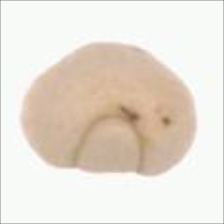L5: (70, 112, 148, 176), (79, 38, 150, 59)
L6: (17, 38, 199, 179)
